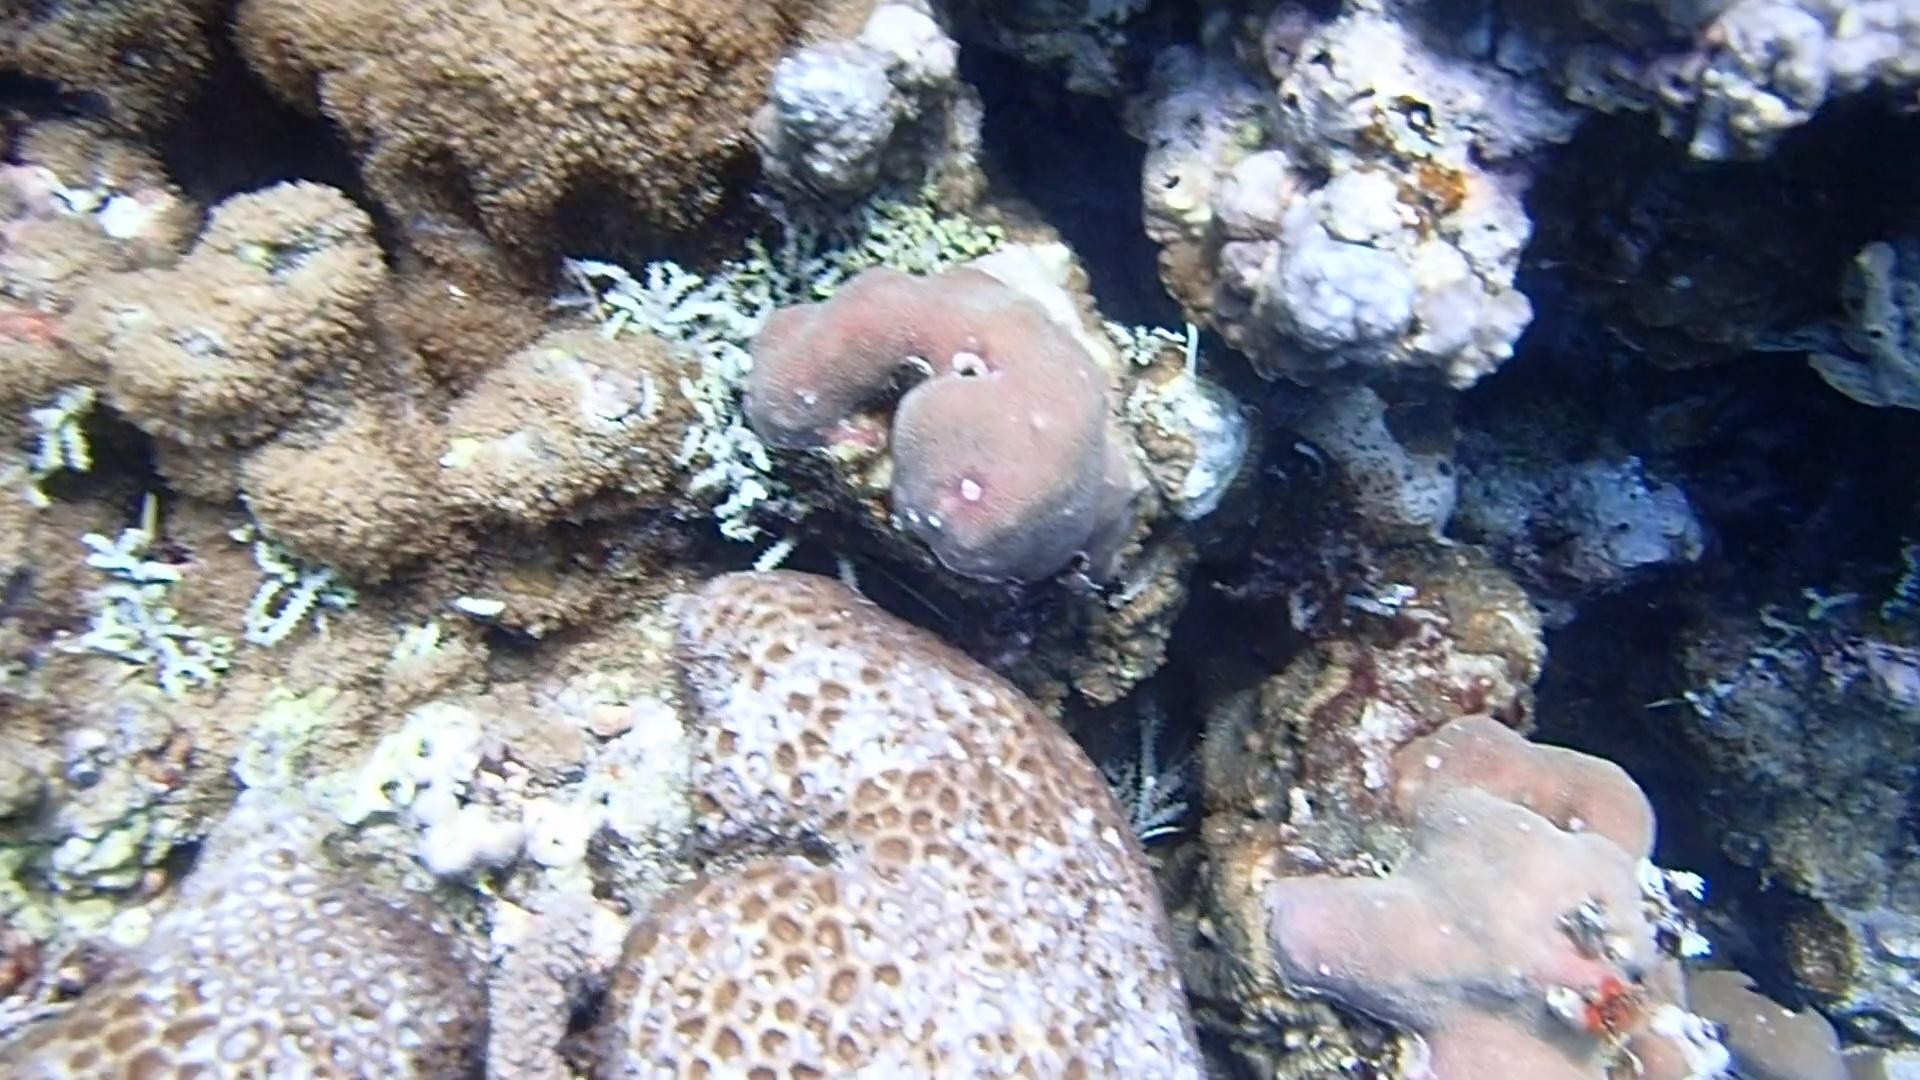Dark Fish: (1718, 936, 1813, 1027)
